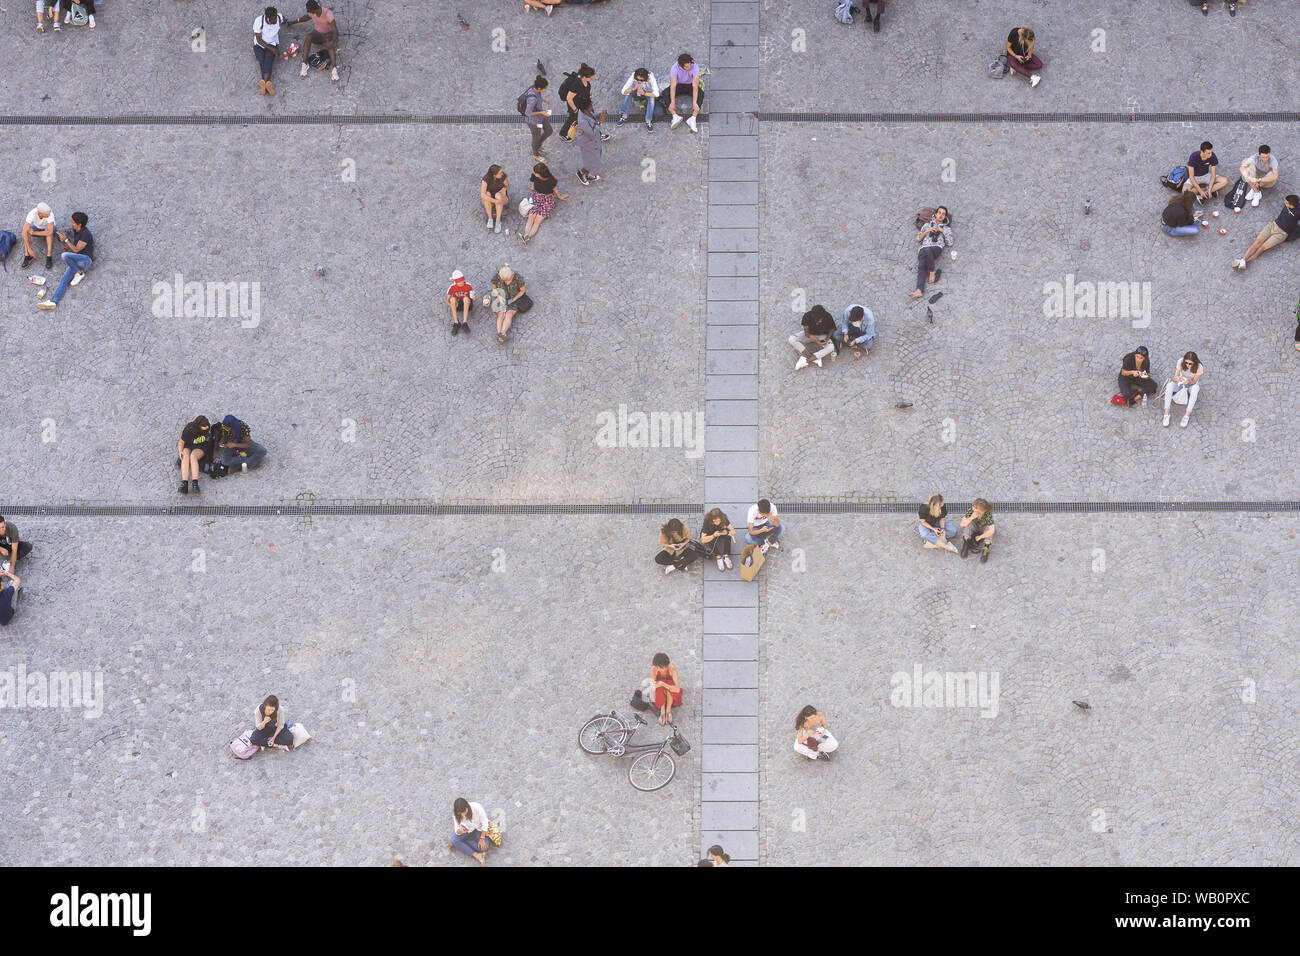person: (36, 210, 99, 314), (1228, 196, 1300, 274), (286, 1, 348, 86), (912, 198, 959, 306), (517, 158, 571, 246), (441, 792, 506, 865), (489, 261, 533, 349), (558, 62, 601, 152), (639, 649, 686, 726), (216, 408, 270, 474), (247, 7, 287, 99), (1163, 349, 1207, 429), (514, 75, 556, 157), (175, 405, 212, 499), (574, 95, 613, 186), (666, 47, 710, 126), (787, 300, 833, 375), (788, 702, 841, 763), (252, 689, 299, 757), (1175, 138, 1229, 196), (653, 514, 700, 576), (1000, 24, 1048, 87), (700, 502, 740, 575), (836, 305, 882, 365), (959, 497, 999, 565), (916, 490, 960, 553), (619, 63, 662, 126), (1238, 145, 1283, 207), (744, 496, 788, 556), (1118, 346, 1162, 408), (479, 160, 516, 232), (20, 203, 60, 268), (446, 271, 479, 339), (1, 507, 33, 577), (1161, 193, 1204, 237), (1, 567, 24, 629)
